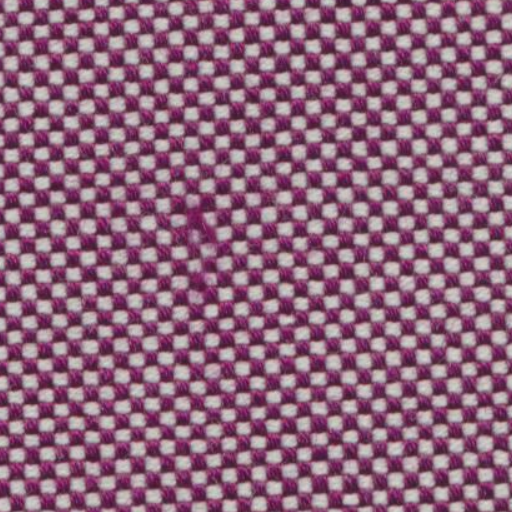DuanSha: (180, 194, 230, 254)
